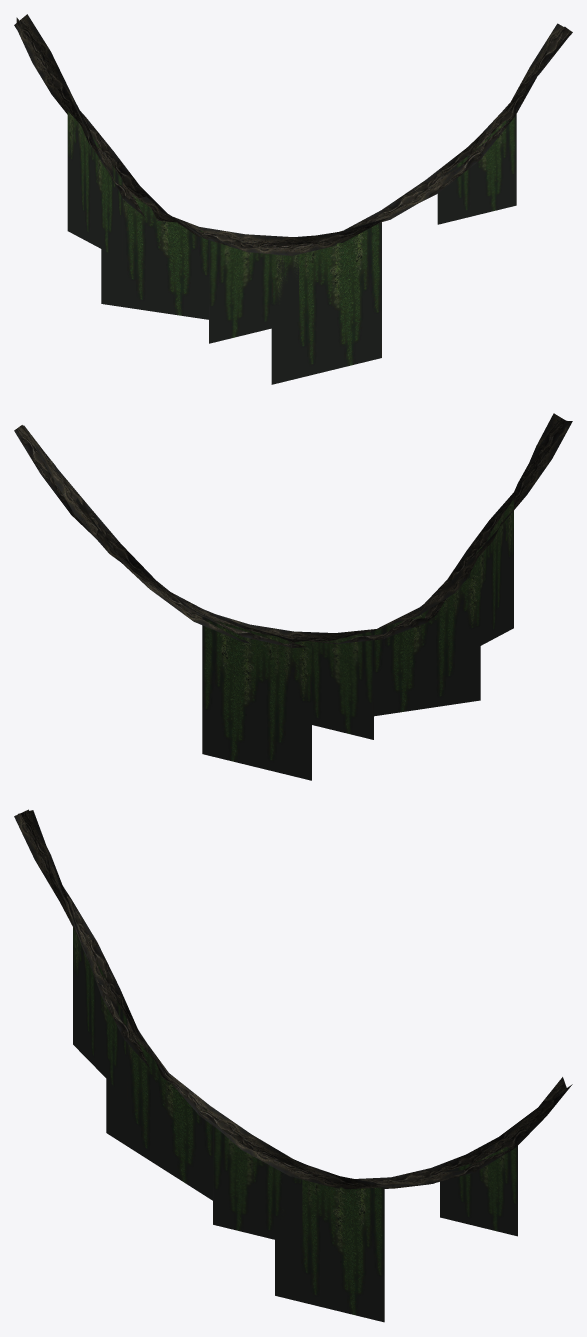
File: S_Plant_Green041_1_1.FBX
The picture shows the model from 3 angles, top to bottom: view 1: azimuth 30°, elevation 25°; view 2: azimuth 150°, elevation 25°; view 3: azimuth 330°, elevation 25°; orthographic projection.
Parts seen in each view (by area): view 1: S_Plant_Green041_1_1; view 2: S_Plant_Green041_1_1; view 3: S_Plant_Green041_1_1.
Boxes of the visible parts, left/top/right/bottom form: S_Plant_Green041_1_1: left=14, top=14, right=572, bottom=384; S_Plant_Green041_1_1: left=14, top=413, right=572, bottom=780; S_Plant_Green041_1_1: left=14, top=809, right=572, bottom=1322.
Size of the model in its own units: 1674 by 43.51 by 1235.
